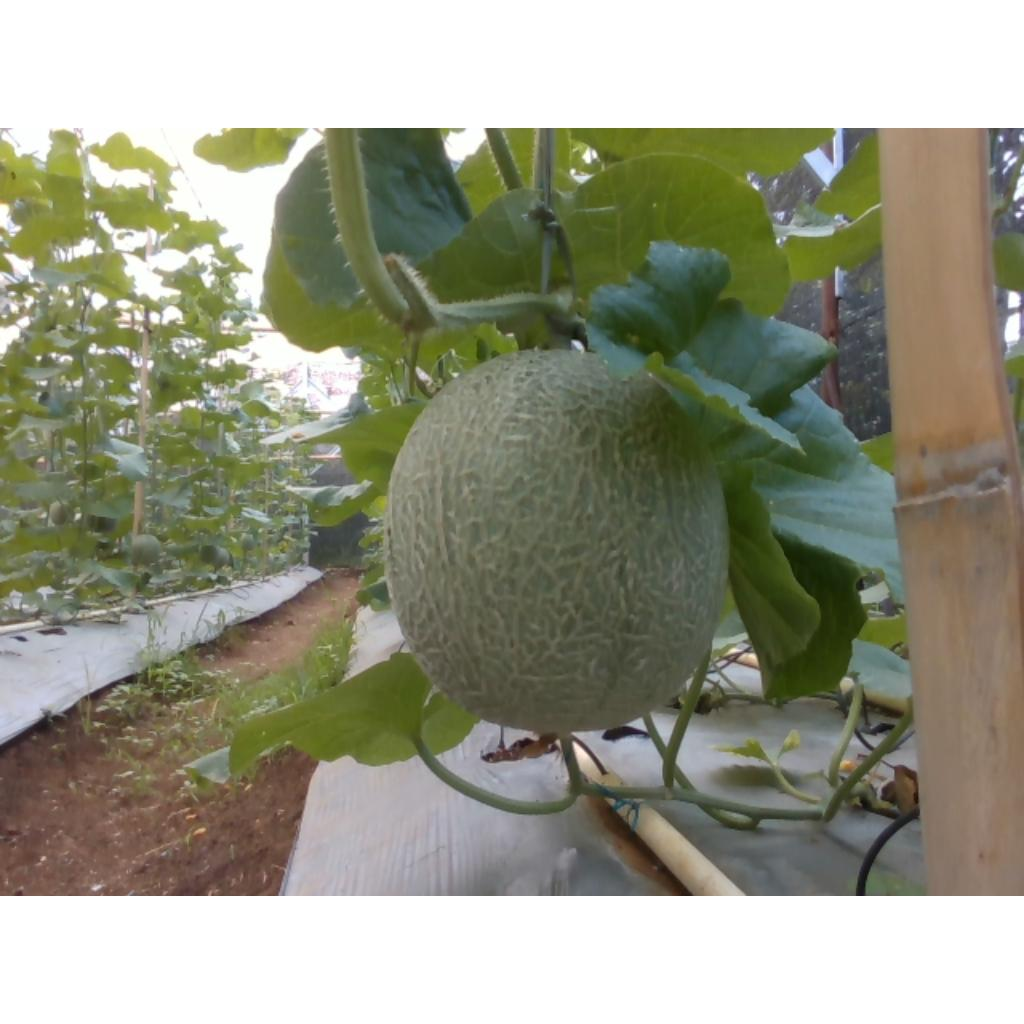melon: (387, 349, 731, 734)
